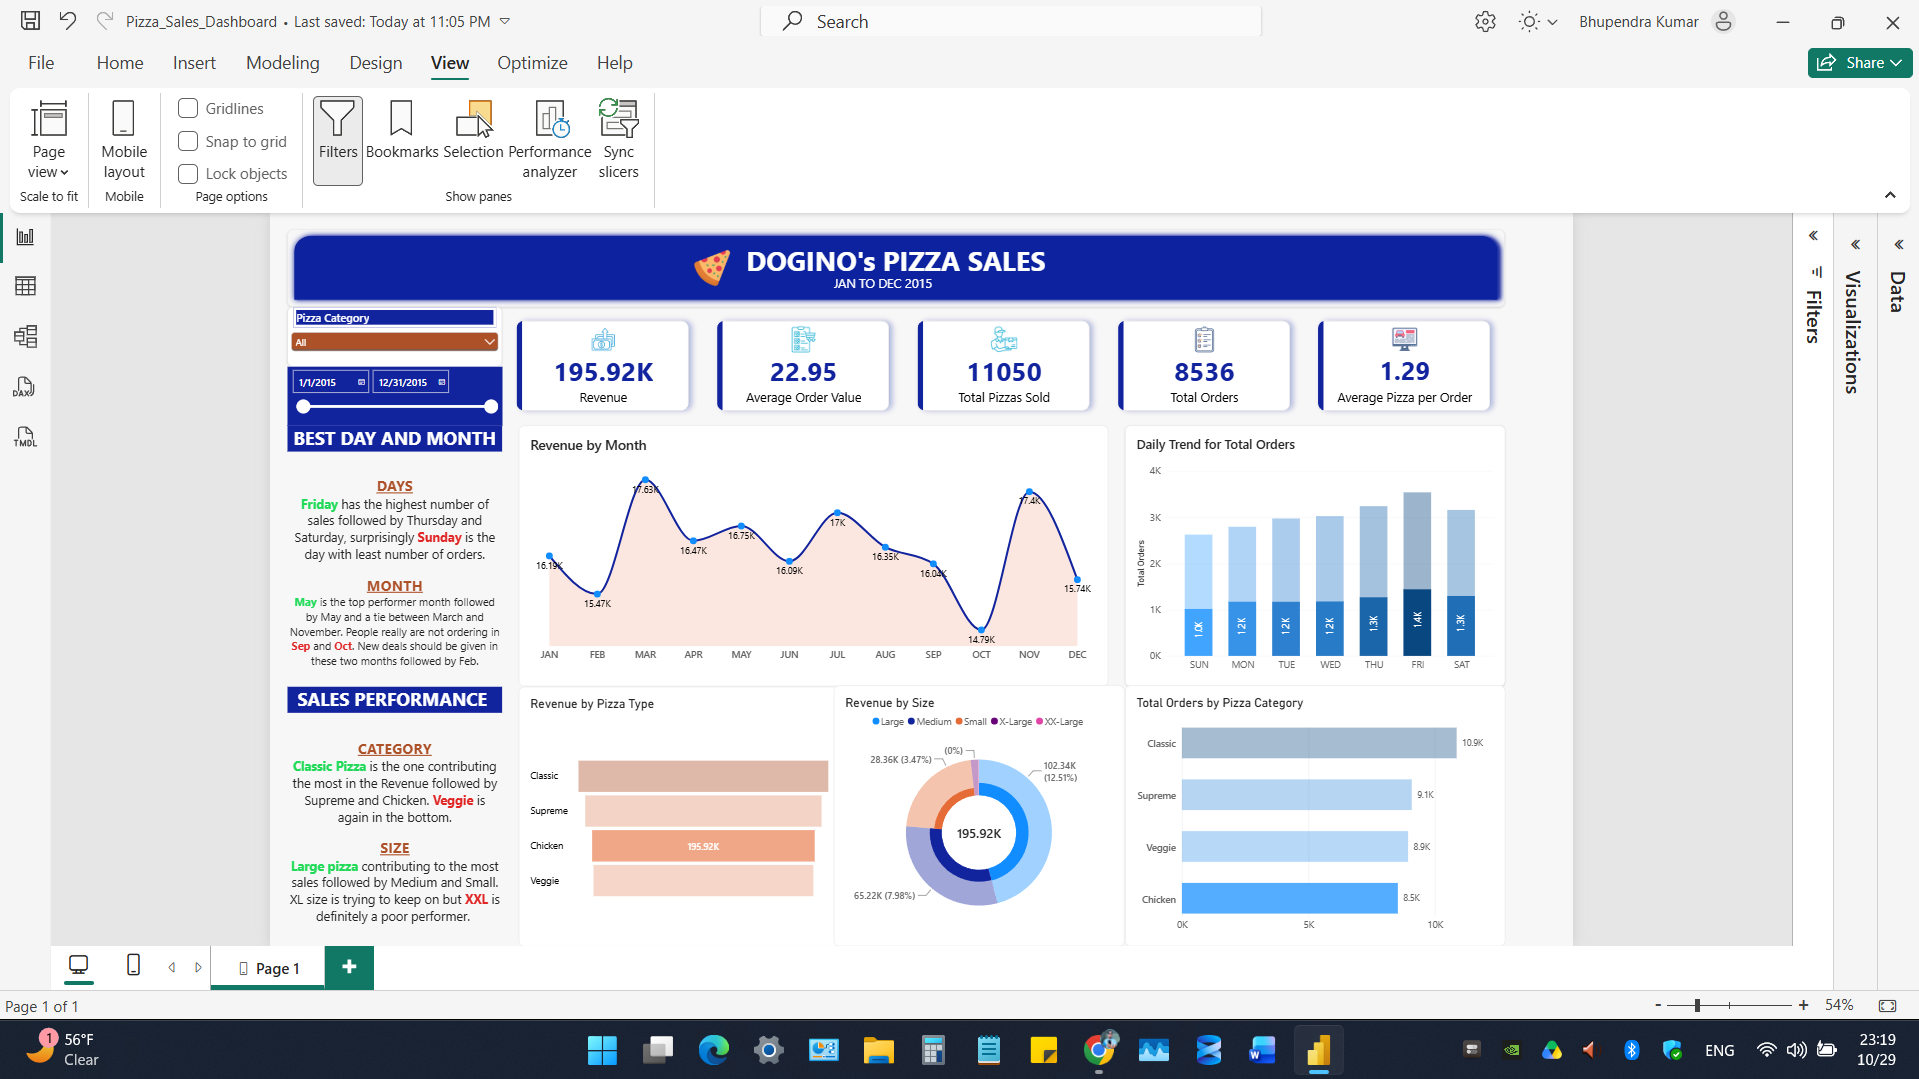

This screenshot's page, from the dashboard's own definition file:
{"tool":"powerbi","page":{"name":"Page 1","canvas":[1920,1080],"ordinal":0},"visuals":[{"type":"shape","box":[26.8,24.7,1790.7,113.2],"z":0},{"type":"cardVisual","fields":{"Data":["pizza_sales.Revenue","pizza_sales.Average Order Value","pizza_sales.Total Pizzas Sold","pizza_sales.Total_orders","pizza_sales.Average Pizza per Order"]},"box":[341.7,137.9,1475.8,175],"z":1000},{"type":"textbox","box":[830,90,154,38],"z":2000},{"type":"image","box":[491.9,53.5,319,55.6],"z":3000},{"type":"columnChart","title":"Daily Trend for Total Orders","fields":{"Category":["pizza_sales.Day"],"Y":["pizza_sales.Total Orders"]},"box":[1258,312,560,384],"z":4000},{"type":"stackedAreaChart","title":"Revenue by Month","fields":{"Category":["pizza_sales.Month Order"],"Y":["pizza_sales.Revenue"]},"box":[366,312,868,384],"z":5000},{"type":"funnel","title":"Revenue by Pizza Type","fields":{"Category":["pizza_sales.pizza_category"],"Y":["pizza_sales.Revenue"]},"box":[366,698,478,382],"z":6000},{"type":"donutChart","title":"Revenue by Size","fields":{"Category":["pizza_sales.pizza_size"],"Y":["pizza_sales.Revenue"]},"box":[830,696,428,384],"z":7000},{"type":"barChart","title":"Total Orders by Pizza Category","fields":{"Category":["pizza_sales.pizza_category"],"Y":["pizza_sales.Total Orders"]},"box":[1258,696,560,384],"z":8000},{"type":"textbox","box":[26,698,316,38],"z":9000},{"type":"textbox","box":[26,312,316,38],"z":10000},{"type":"textbox","box":[26,736,316,344],"z":11000},{"type":"textbox","box":[26,350,316,346],"z":12000},{"type":"slicer","fields":{"Values":["pizza_sales.pizza_category"]},"box":[26,138,316,88],"z":13000},{"type":"slicer","fields":{"Values":["pizza_sales.order_date"]},"box":[26,226,316,86],"z":14000}]}

Visuals, with their boxes on the page's 1920x1080 design canvas (x1, y1, x2, y2). These are canvas units, not pixel positions in the 1919x1079 screenshot, which may show the page scaled, cropped or inside an application window:
shape: crop(27, 25, 1818, 138)
cardVisual - pizza_sales.Revenue x pizza_sales.Average Order Value: crop(342, 138, 1818, 313)
textbox: crop(830, 90, 984, 128)
image: crop(492, 54, 811, 109)
"Daily Trend for Total Orders" columnChart: crop(1258, 312, 1818, 696)
"Revenue by Month" stackedAreaChart: crop(366, 312, 1234, 696)
"Revenue by Pizza Type" funnel: crop(366, 698, 844, 1080)
"Revenue by Size" donutChart: crop(830, 696, 1258, 1080)
"Total Orders by Pizza Category" barChart: crop(1258, 696, 1818, 1080)
textbox: crop(26, 698, 342, 736)
textbox: crop(26, 312, 342, 350)
textbox: crop(26, 736, 342, 1080)
textbox: crop(26, 350, 342, 696)
slicer - pizza_sales.pizza_category: crop(26, 138, 342, 226)
slicer - pizza_sales.order_date: crop(26, 226, 342, 312)
